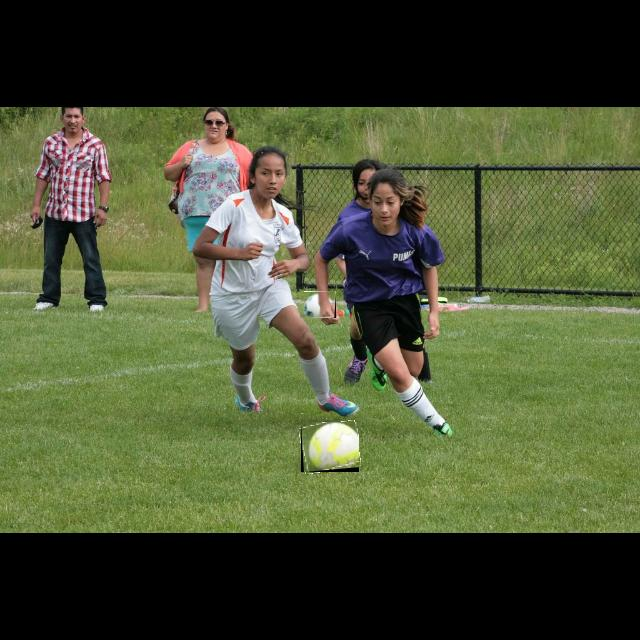Football: (301, 422, 359, 472), (300, 292, 336, 318)
